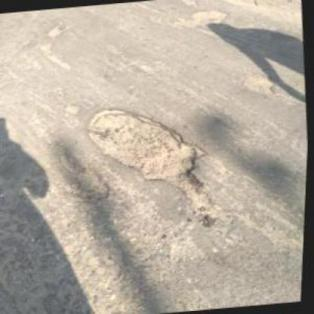Hueco: (81, 97, 222, 219), (57, 148, 114, 204), (36, 21, 80, 73), (238, 69, 281, 99), (182, 8, 229, 32), (63, 102, 83, 115)
